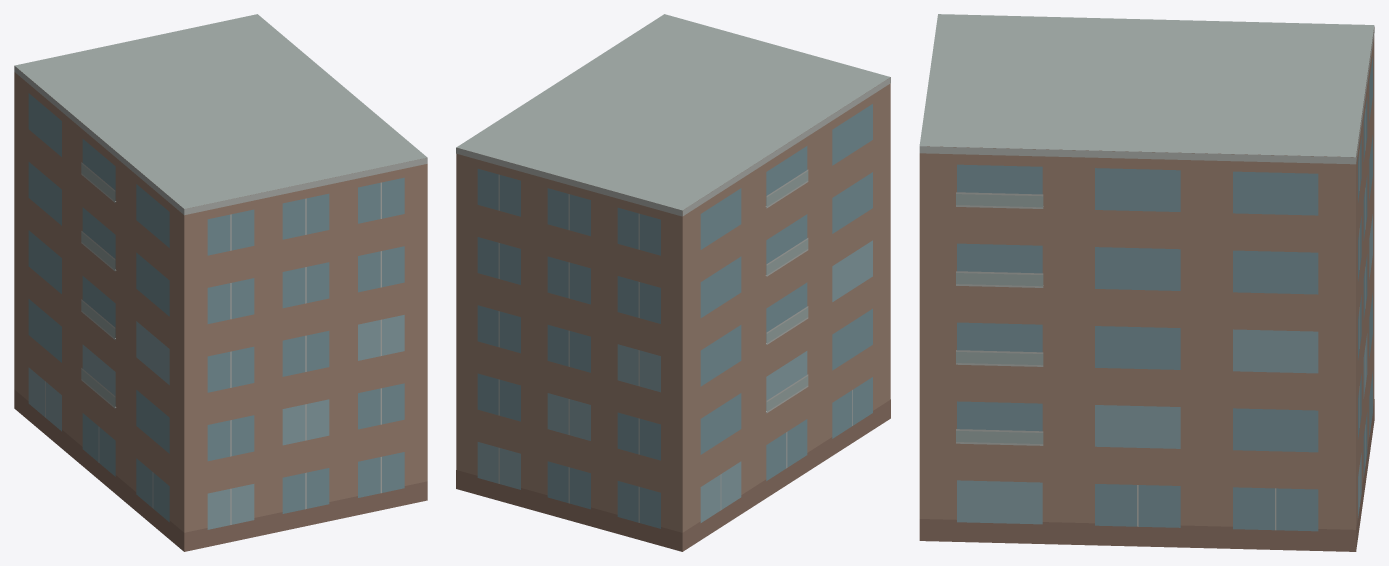
The model's file is survey-upis-32546019.glb.
3 views of the same model, side by side, from view 1: azimuth 30°, elevation 25°; view 2: azimuth 150°, elevation 25°; view 3: azimuth 270°, elevation 25° (orthographic). The views are drawn at different scales.
Parts seen in each view (by area): view 1: survey-upis-32546019.tmp; view 2: survey-upis-32546019.tmp; view 3: survey-upis-32546019.tmp.
Part boxes in pixels (x1=…): survey-upis-32546019.tmp: x1=14, y1=14, x2=427, y2=551; survey-upis-32546019.tmp: x1=456, y1=14, x2=890, y2=551; survey-upis-32546019.tmp: x1=919, y1=14, x2=1374, y2=551.
Size of the model in its own units: 10.51 by 13.5 by 14.11.
